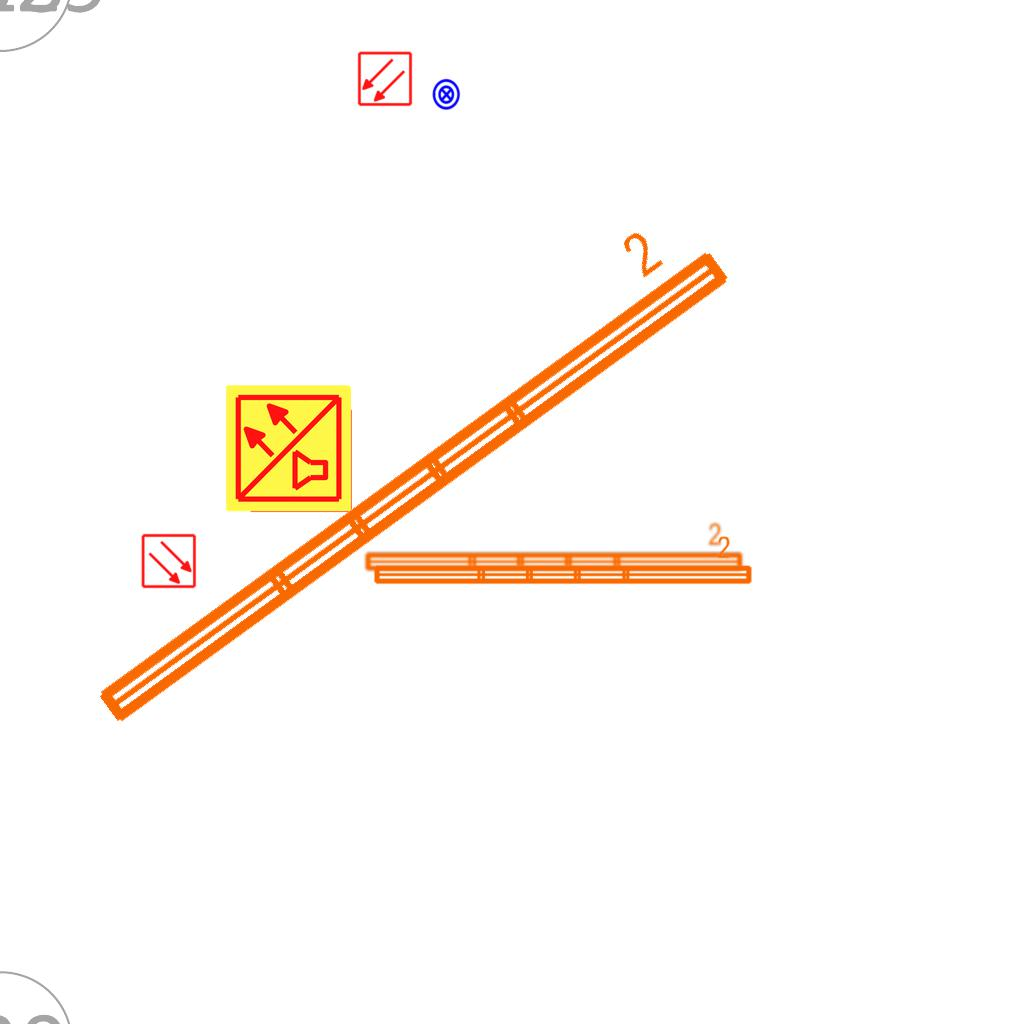Ambulanz_Pendelleuchte_LED: (51, 194, 745, 740), (360, 521, 747, 577), (369, 534, 756, 590)
OKW_Multisensormelder_(Kombination_optischer_Rauch-Kahlenmonoxid_Waerme-Melder): (223, 382, 355, 514)
RMO_Rauchmelder_optischer: (357, 51, 413, 107), (141, 533, 197, 589)
Taster_beleuchtet: (430, 78, 463, 111)
